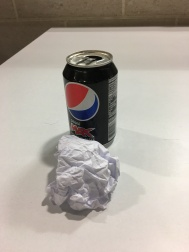can_black: (50, 50, 131, 147)
paper_white: (38, 132, 131, 225)
